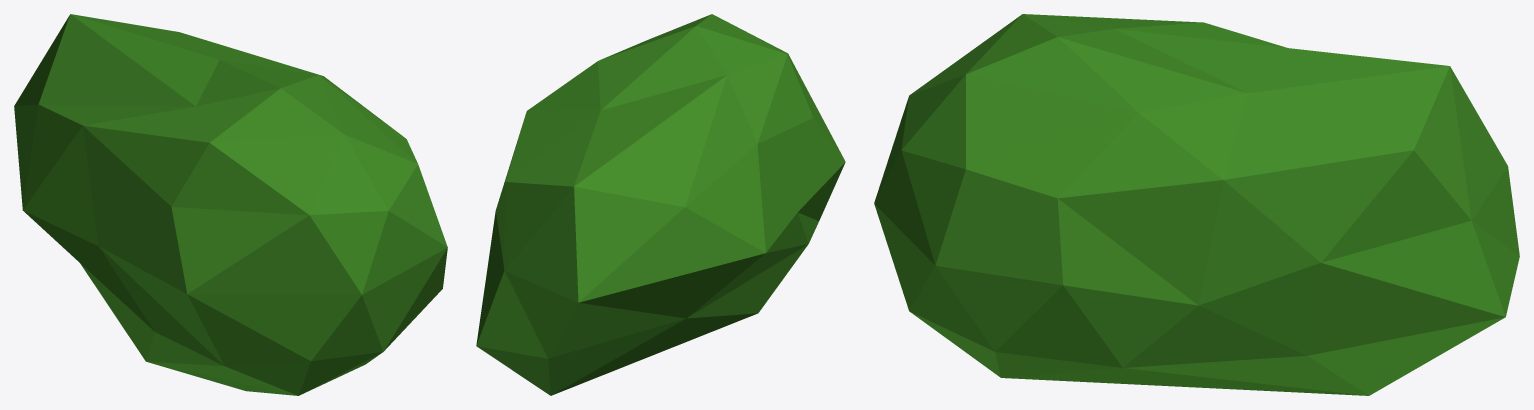
The model's file is Bush.fbx.
The picture shows the model from 3 angles, left to right: view 1: azimuth 30°, elevation 25°; view 2: azimuth 150°, elevation 25°; view 3: azimuth 270°, elevation 25°; orthographic projection. The views are drawn at different scales.
Parts seen in each view (by area): view 1: Bush; view 2: Bush; view 3: Bush.
Part boxes in pixels (<box>): Bush: <box>14,14,447,395</box>; Bush: <box>476,14,845,395</box>; Bush: <box>874,14,1519,395</box>.
Size of the model in its own units: 225 by 200 by 352.
